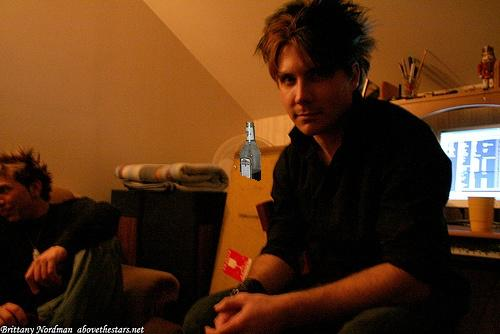tampered: (240, 123, 261, 181)
